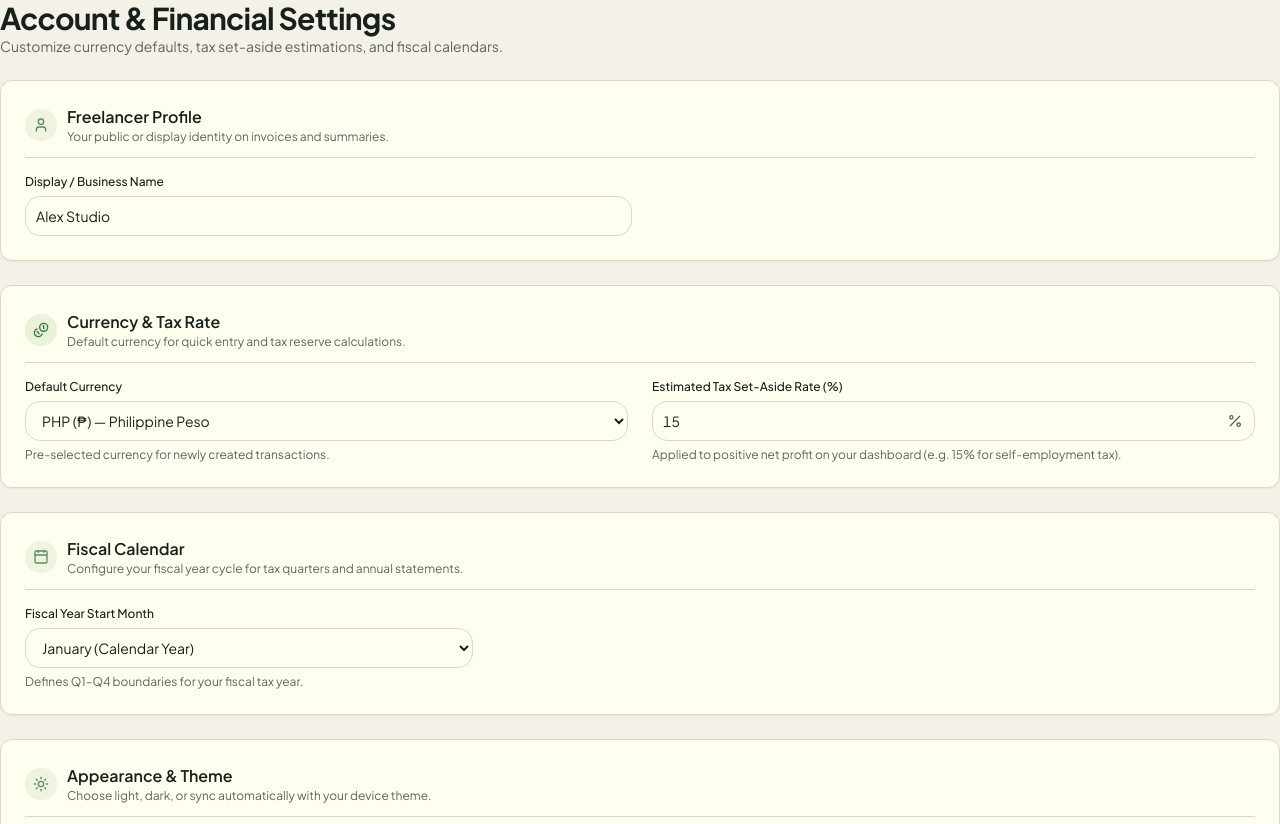
Test case: SettingsManager Component › validates tax percentage cannot exceed 100%
Type "120" into the number field labelled "Estimated Tax Set-Aside Rate (%)". click: {"x": 954, "y": 421}
box: 652,401 -> 1255,441
(page scrolled)
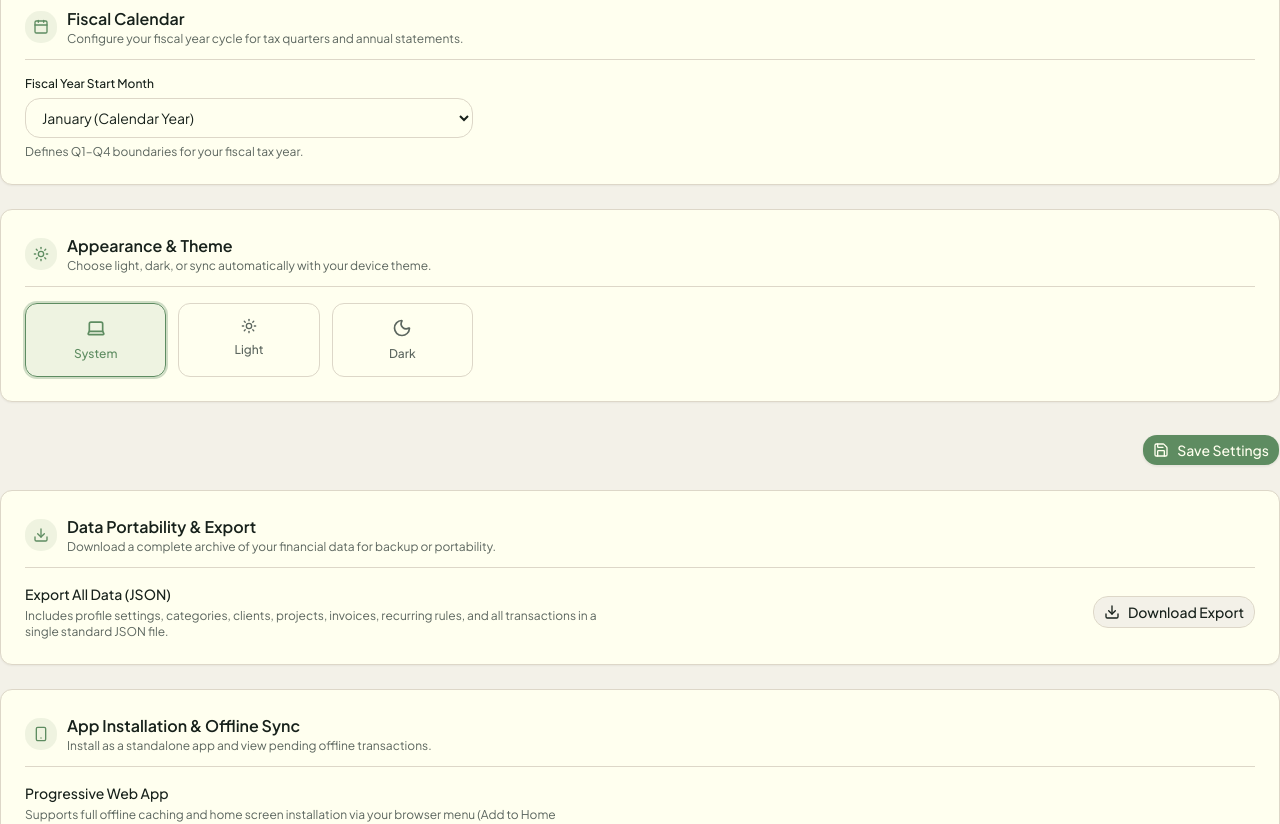
Click the button "Save Settings". click: {"x": 1211, "y": 450}
box: 1142,434 -> 1279,466
(page scrolled)
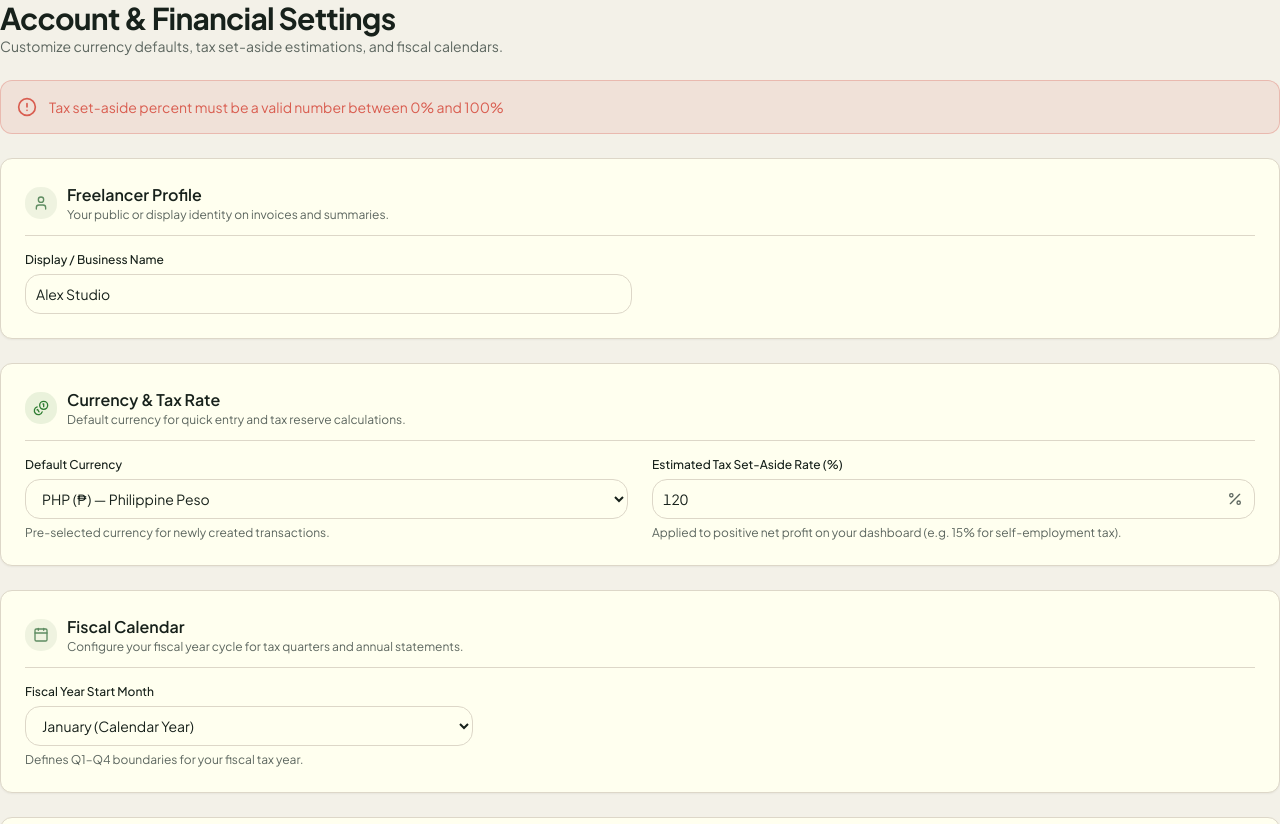
Expected: the text "Tax set-aside percent must be a valid number between 0% and 100%" is shown, 49,97 -> 504,117
